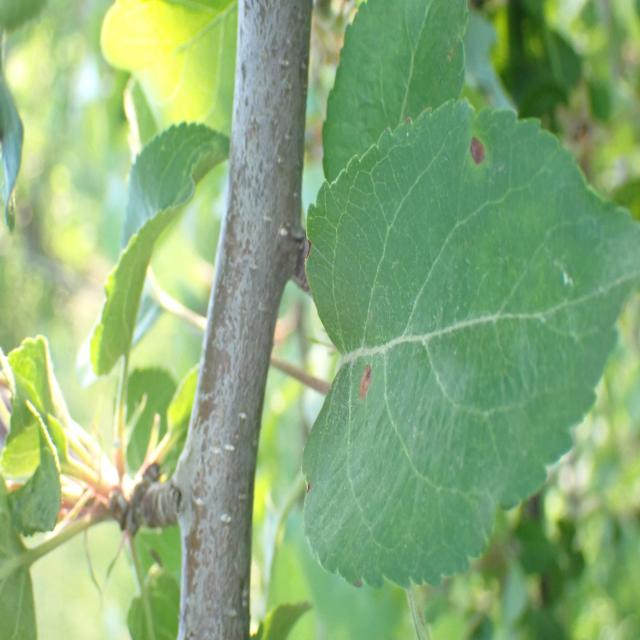frog-eye-leaf-spot: (299, 95, 640, 590)
